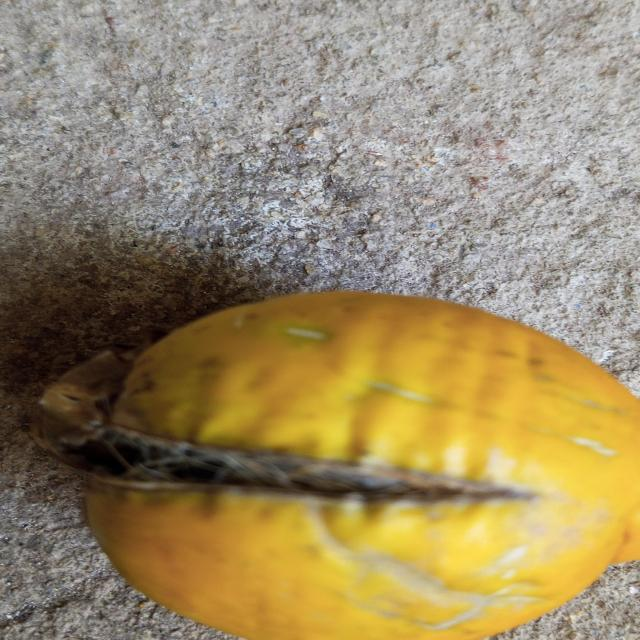damaged: (35, 291, 640, 640)
